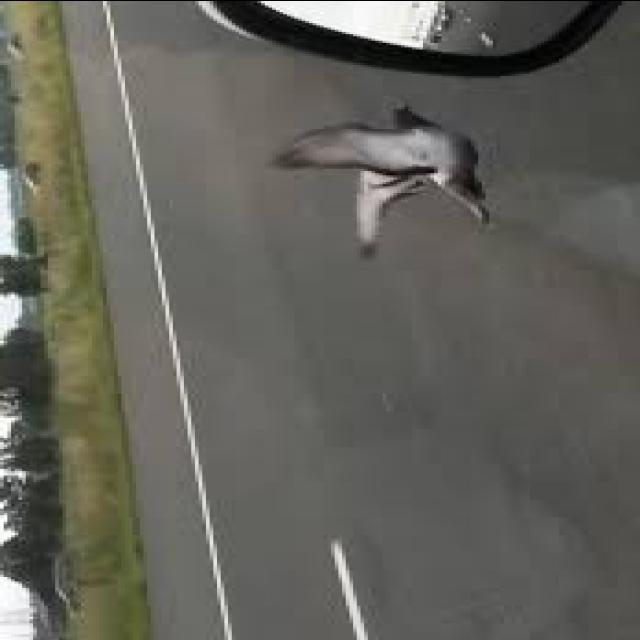pigeon: (236, 100, 548, 268)
